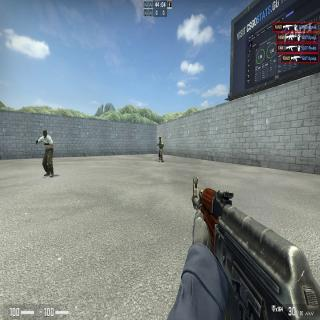CT-Body: (41, 128, 53, 177), (158, 135, 163, 161)
CT-Head: (42, 129, 47, 138), (159, 136, 162, 142)
